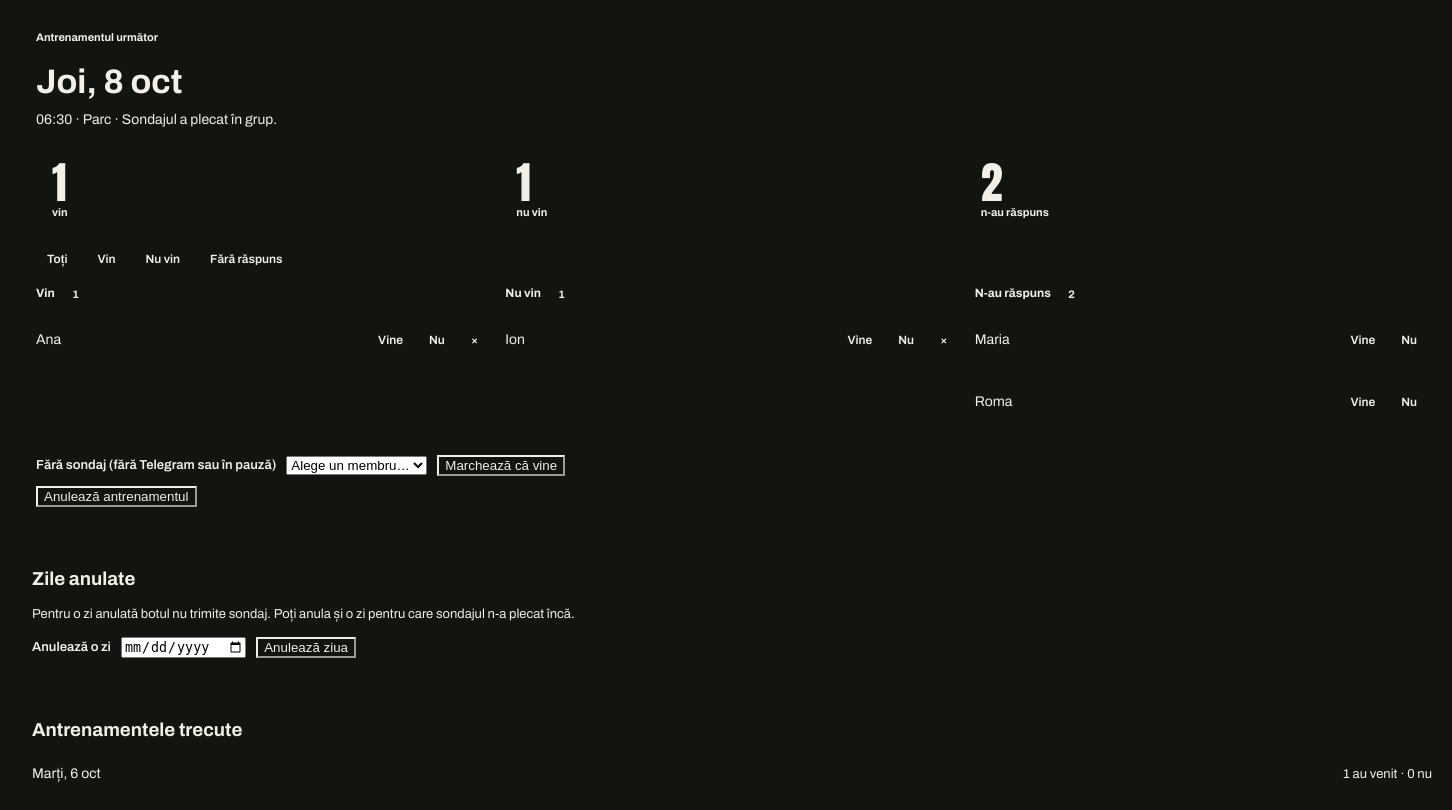
it: marcarea prezenței reîmprospătează numai citirile grupului, fără probe, ediții sau config
Expected: the heading "Joi, 8 oct" is shown, [36,63,182,100]
Click the button "Vine" in the row of "Maria". click: click(1363, 340)
box: [1339,323,1386,357]
(page scrolled)
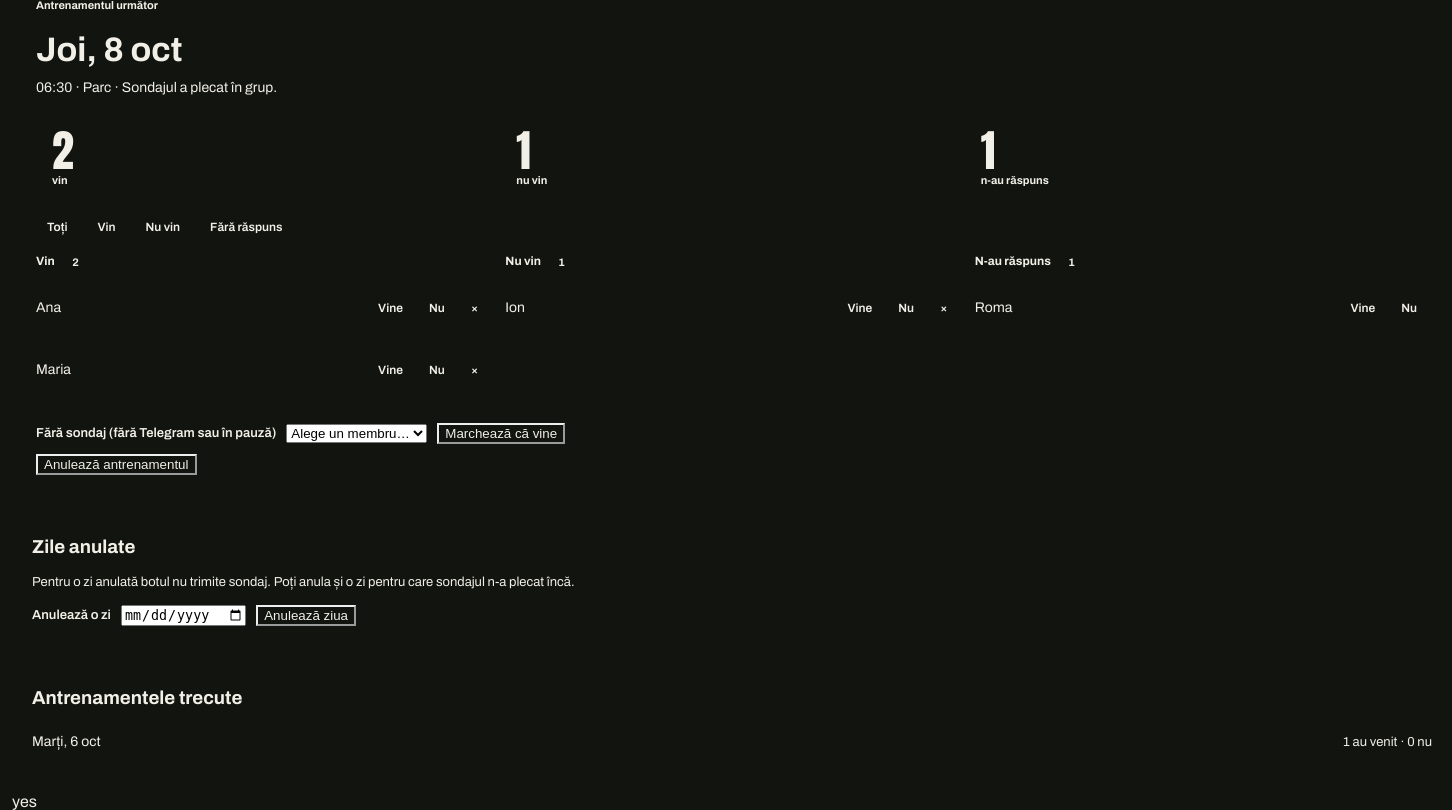
Result: the text named "Răspunsul Mariei" reads "yes" at [12,793,37,809]
